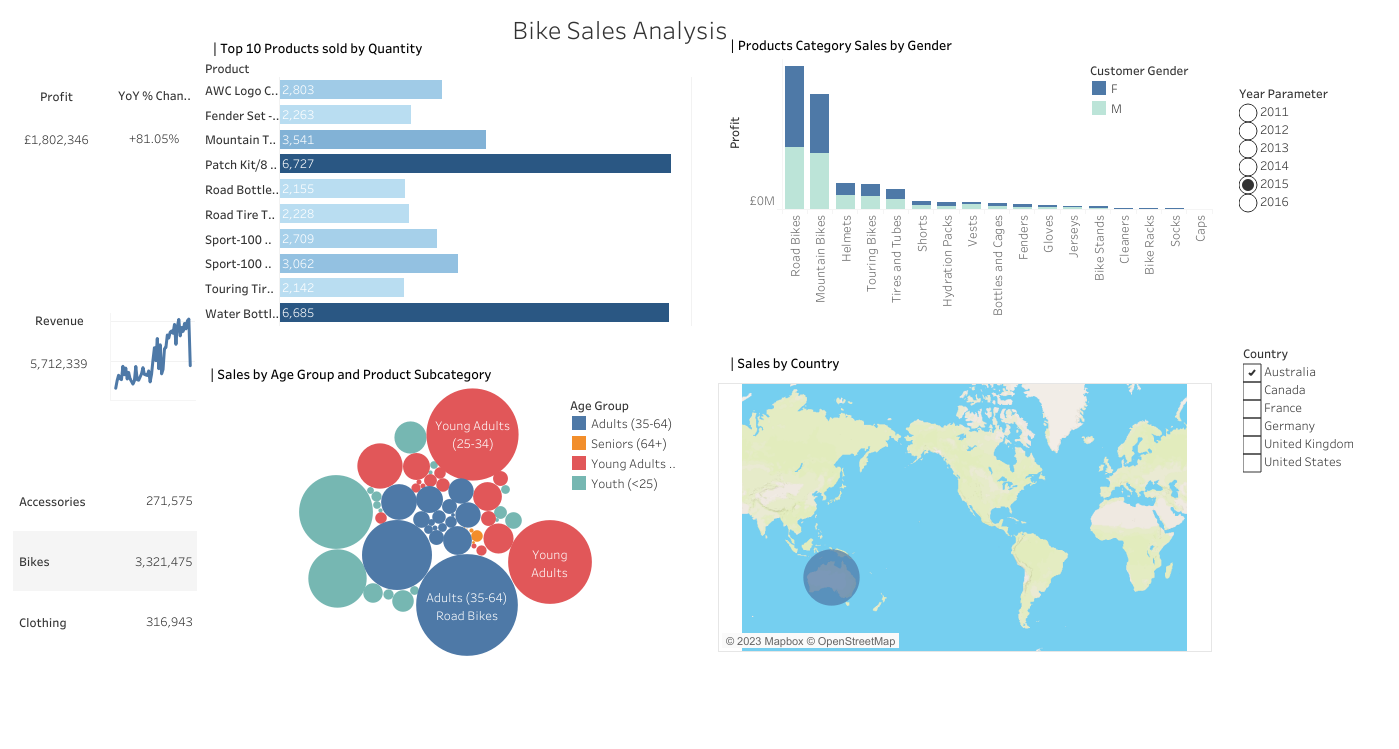

This screenshot's page, from the dashboard's own definition file:
{"tool":"tableau","page":{"name":"Sales Dashboard","canvas":[1400,750],"ordinal":0},"visuals":[{"type":"title","box":[8,8,1224,42]},{"type":"text","box":[202.3,36,290.8,23.4]},{"type":"text","box":[722,36,383,16]},{"type":"blank","box":[8,50,1224,692]},{"type":"worksheet","title":"Top 10 Products","mark":"Bar","rows":["Product"],"box":[199.1,56.9,493.2,269.5]},{"type":"legend","title":"Sub Category Bar Chart","param":"[federated.0mft75m1qedppr10ew2jz17i3wx3].[none:Customer_Gender:nk]","box":[1089,59,115,60]},{"type":"worksheet","title":"Sub Category Bar Chart","mark":"Automatic","rows":["Profit"],"cols":["Sub_Category"],"box":[718.4,59.4,493.2,269.5]},{"type":"parameter","param":"[Parameters].[Parameter 1]","box":[1239,83,132,187]},{"type":"worksheet","title":"Profit Card","mark":"Automatic","cols":["Calculation_1053279380370149378"],"box":[13.9,84.5,85.2,87.1]},{"type":"worksheet","title":"YoY % Change","mark":"Automatic","cols":["Calculation_1053279380373856264"],"box":[112.2,84.5,85.2,87.1]},{"type":"worksheet","title":"Revenue Card","mark":"Automatic","cols":["Calculation_1053279380380733449"],"box":[17,310,85,87]},{"type":"worksheet","title":"Revenue Line Chart","mark":"Automatic","rows":["Revenue"],"cols":["Date"],"box":[110,313,85,87]},{"type":"filter","title":"Age Group Bubble Chart","param":"[federated.0mft75m1qedppr10ew2jz17i3wx3].[none:Country:nk]","box":[1243,343,131,221]},{"type":"text","box":[721.7,346.5,249.9,30.1]},{"type":"text","box":[202.3,359.9,331.8,25.9]},{"type":"worksheet","title":"Map","mark":"Automatic","box":[718.4,382.5,493.2,269.5]},{"type":"worksheet","title":"Age Group Bubble Chart","mark":"Circle","box":[199.1,386.7,493.2,269.5]},{"type":"legend","title":"Age Group Bubble Chart","param":"[federated.0mft75m1qedppr10ew2jz17i3wx3].[none:Age_Group:nk]","box":[569,394,111,102]},{"type":"worksheet","title":"Cost Cards","mark":"Automatic","rows":["Product_Category"],"box":[13.1,469.6,184.3,182.5]}]}

Visuals, with their boxes in screenshot pixels (x1, y1, x2, y2), scaled from the page's 1400x750 canvas onto the 1399x749 screenshot:
title: pyautogui.locateOnScreen(8, 8, 1231, 50)
text: pyautogui.locateOnScreen(202, 36, 493, 59)
text: pyautogui.locateOnScreen(721, 36, 1104, 52)
blank: pyautogui.locateOnScreen(8, 50, 1231, 741)
"Top 10 Products" worksheet (Bar marks): pyautogui.locateOnScreen(199, 57, 692, 326)
"Sub Category Bar Chart" legend: pyautogui.locateOnScreen(1088, 59, 1203, 119)
"Sub Category Bar Chart" worksheet: pyautogui.locateOnScreen(718, 59, 1211, 328)
parameter: pyautogui.locateOnScreen(1238, 83, 1370, 270)
"Profit Card" worksheet: pyautogui.locateOnScreen(14, 84, 99, 171)
"YoY % Change" worksheet: pyautogui.locateOnScreen(112, 84, 197, 171)
"Revenue Card" worksheet: pyautogui.locateOnScreen(17, 310, 102, 396)
"Revenue Line Chart" worksheet: pyautogui.locateOnScreen(110, 313, 195, 399)
"Age Group Bubble Chart" filter: pyautogui.locateOnScreen(1242, 343, 1373, 563)
text: pyautogui.locateOnScreen(721, 346, 971, 376)
text: pyautogui.locateOnScreen(202, 359, 534, 385)
"Map" worksheet: pyautogui.locateOnScreen(718, 382, 1211, 651)
"Age Group Bubble Chart" worksheet (Circle marks): pyautogui.locateOnScreen(199, 386, 692, 655)
"Age Group Bubble Chart" legend: pyautogui.locateOnScreen(569, 393, 680, 495)
"Cost Cards" worksheet: pyautogui.locateOnScreen(13, 469, 197, 651)
